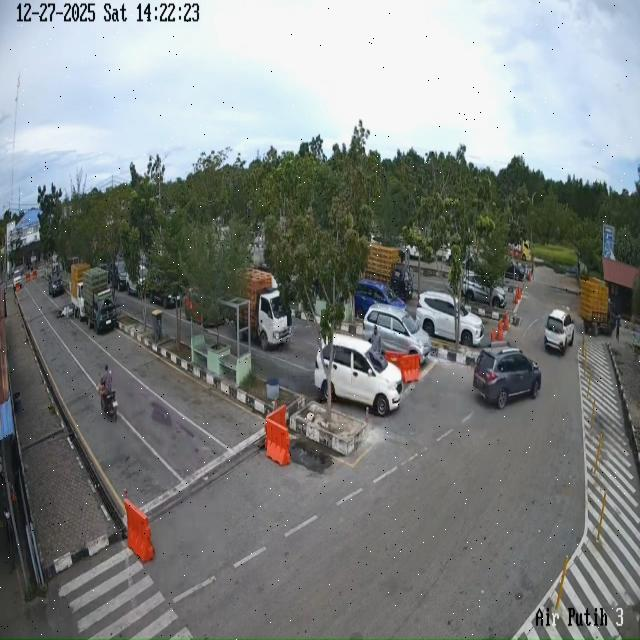Golongan IVA: (314, 333, 403, 416), (473, 346, 542, 409), (363, 304, 431, 364), (416, 290, 484, 347), (354, 279, 406, 320), (463, 272, 506, 308), (544, 309, 575, 355), (48, 272, 65, 297)
Golongan IVB: (240, 268, 292, 350), (83, 267, 117, 334), (582, 278, 618, 336), (68, 263, 91, 321)
